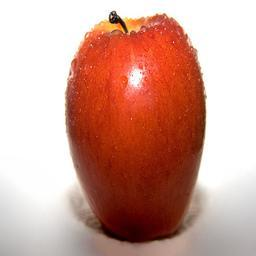apple: (63, 11, 206, 242)
